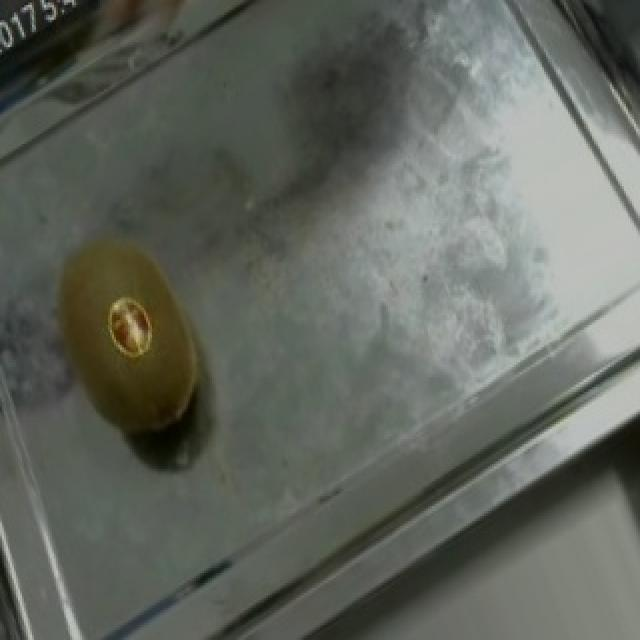Fruit: (16, 201, 240, 474)
